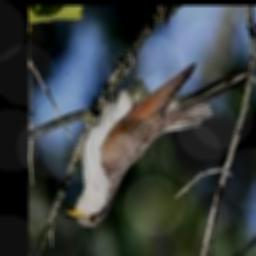Cuckoo: (64, 62, 212, 227)
